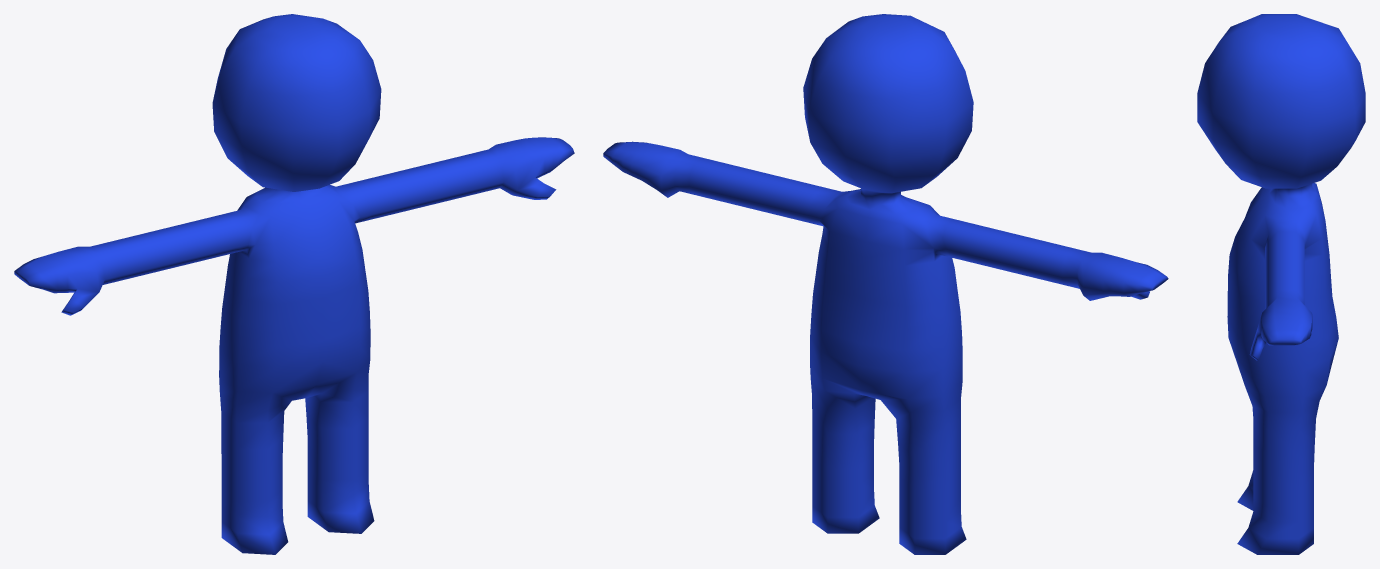
Rendered from hyper_casual stickman.fbx.
3 views of the same model, side by side, from view 1: azimuth 30°, elevation 25°; view 2: azimuth 150°, elevation 25°; view 3: azimuth 270°, elevation 25° (orthographic).
Visible parts, largest first — view 1: Cylinder; view 2: Cylinder; view 3: Cylinder.
Part boxes in pixels (bbox=[...]): Cylinder: bbox=[14, 14, 574, 554]; Cylinder: bbox=[603, 14, 1168, 554]; Cylinder: bbox=[1197, 14, 1365, 554].
Size of the model in its own units: 822 by 723 by 222.
